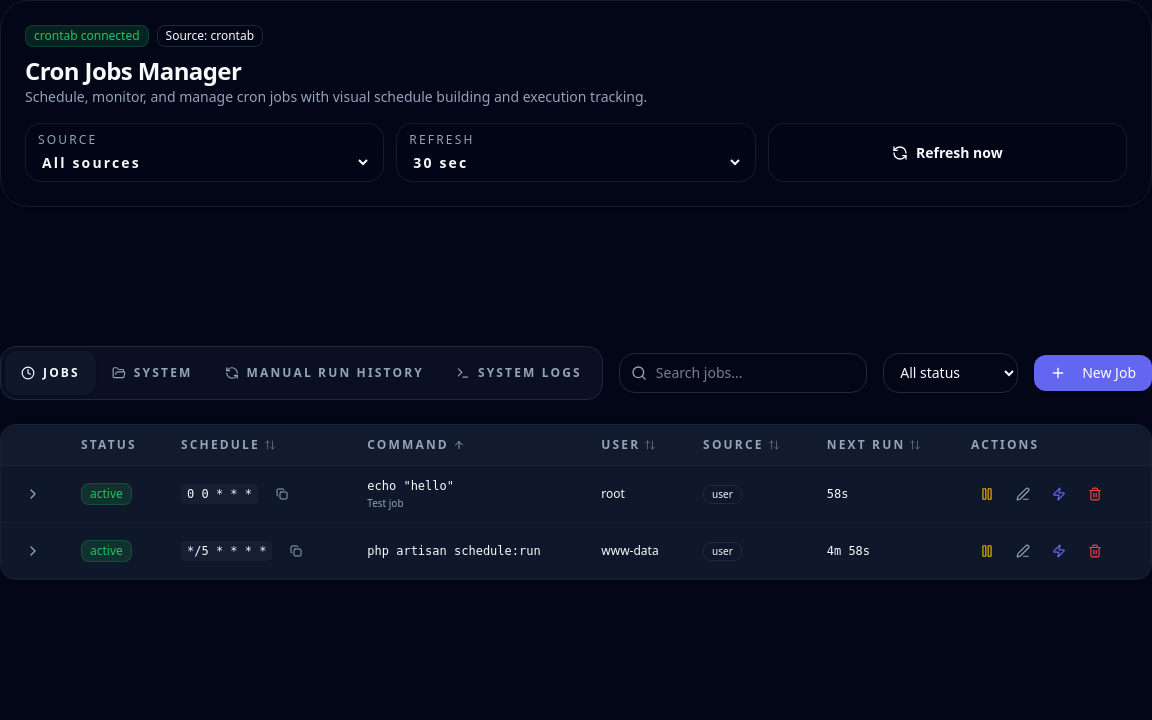
Test: CronsPage › renders presets in builder
What coordinates should you click on to do the following:
click the button "New Job"
I would click on:
 (1093, 372)
Its box is top-left (1034, 354), bottom-right (1151, 390).
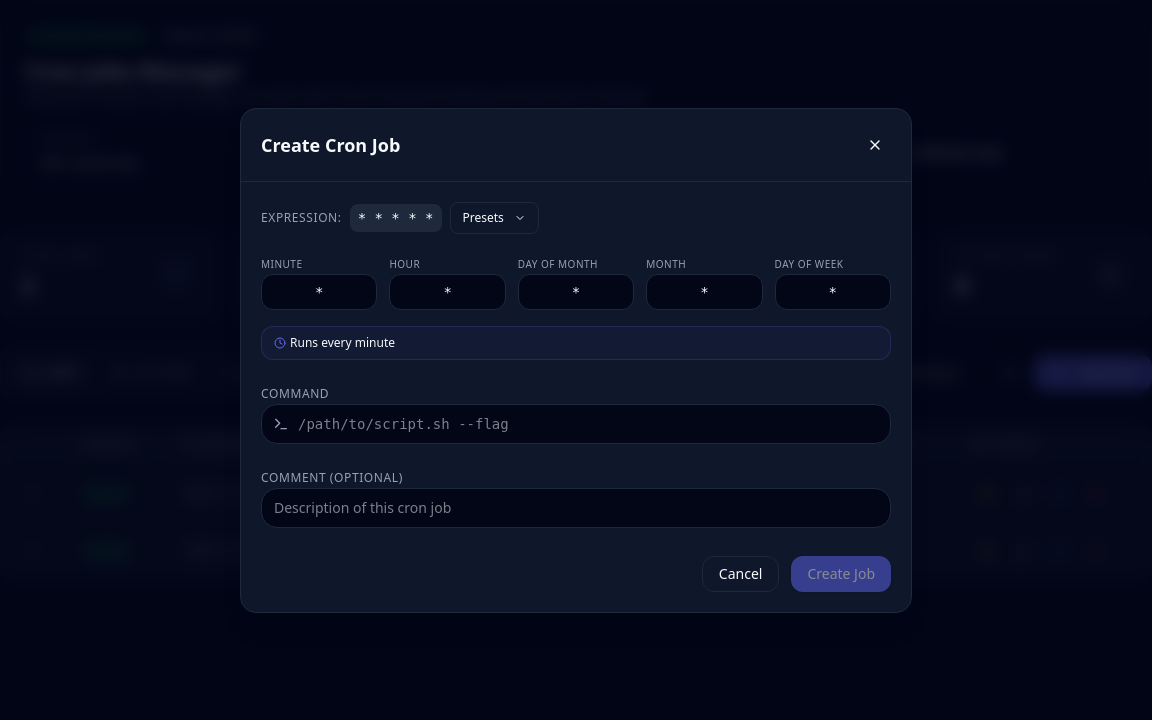
What coordinates should you click on to do the following:
click the button "Presets"
I would click on:
 (494, 218)
Its box is top-left (450, 202), bottom-right (539, 234).
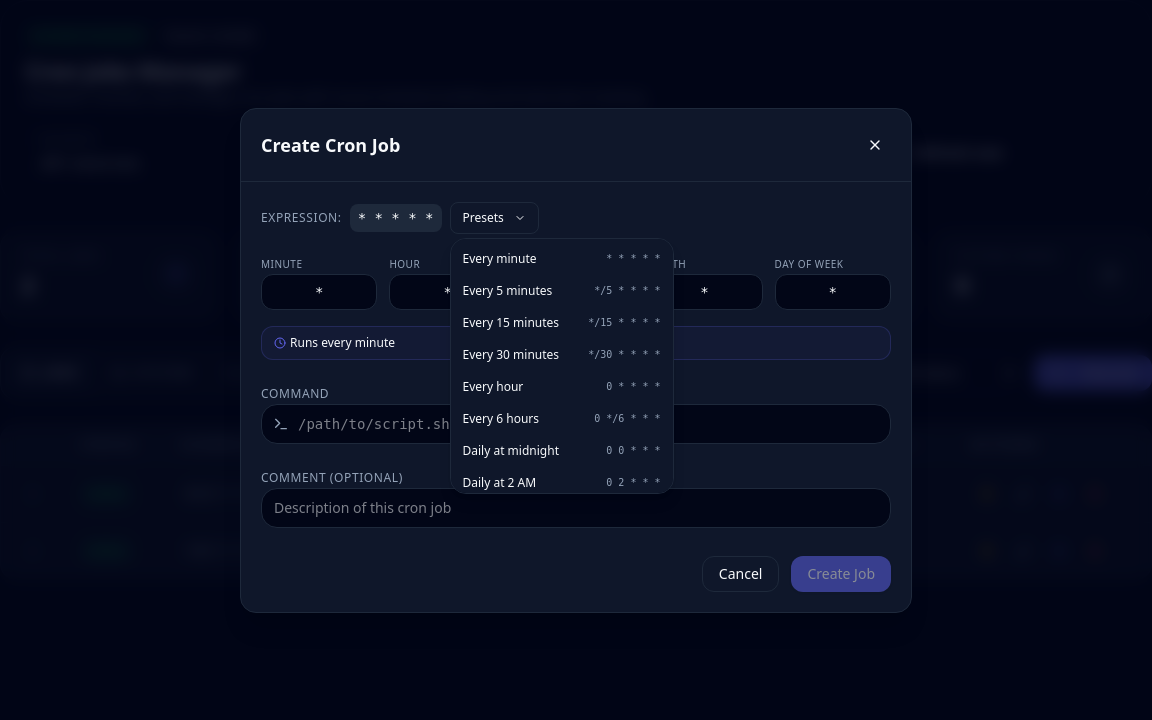
Check: the text "Every minute" is shown, box top-left (462, 250), bottom-right (536, 266)
